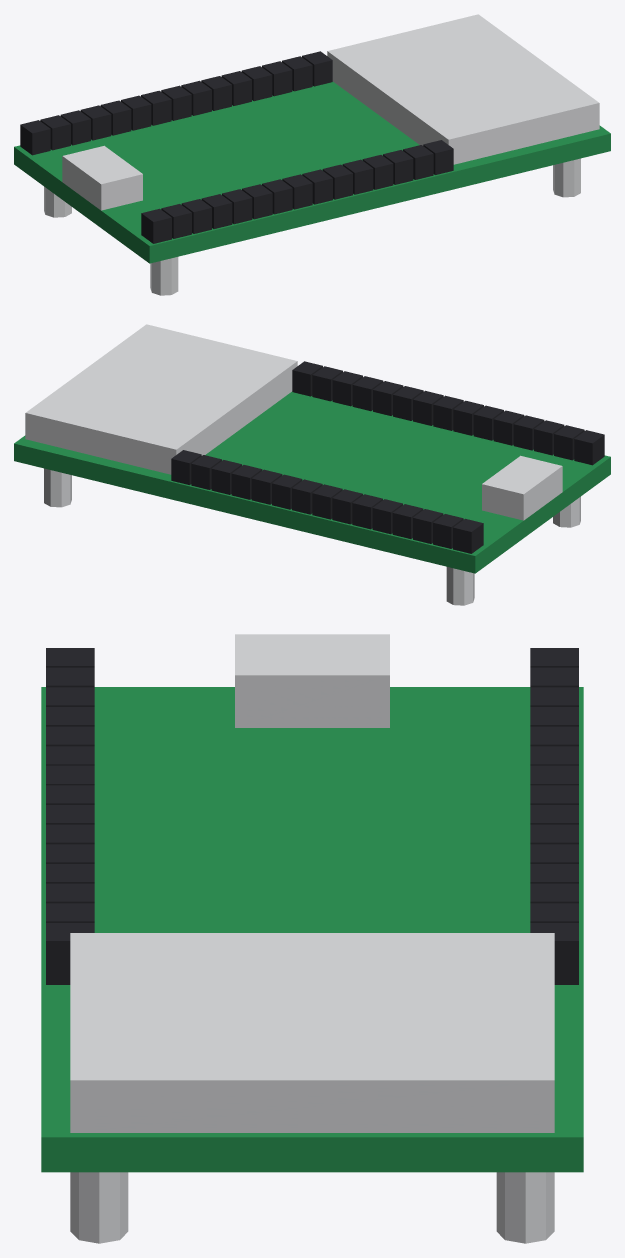
Rendered from esp32_board.fbx.
3 renders of one model, top to bottom at view 1: azimuth 30°, elevation 25°; view 2: azimuth 150°, elevation 25°; view 3: azimuth 270°, elevation 25°, orthographic. The views are drawn at different scales.
Parts seen in each view (by area): view 1: esp32_board; view 2: esp32_board; view 3: esp32_board.
Part boxes in pixels (x1=…): esp32_board: x1=14, y1=14, x2=610, y2=295; esp32_board: x1=14, y1=324, x2=610, y2=605; esp32_board: x1=41, y1=634, x2=583, y2=1243.
Size of the model in its own units: 0.055 by 0.01 by 0.028.
